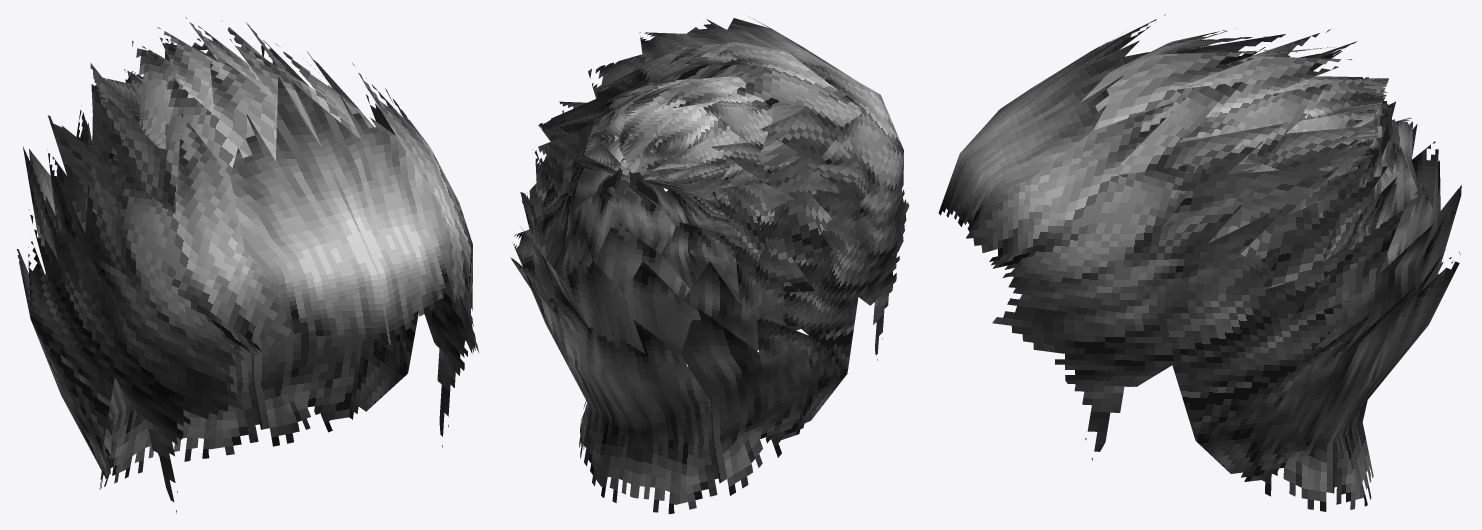
Rendered from m_body007.glb.
3 renders of one model, left to right at view 1: azimuth 30°, elevation 25°; view 2: azimuth 150°, elevation 25°; view 3: azimuth 270°, elevation 25°, orthographic. The views are drawn at different scales.
Size of the model in its own units: 16.39 by 22.46 by 23.36.
Materials: 1 (1 with a texture image).
